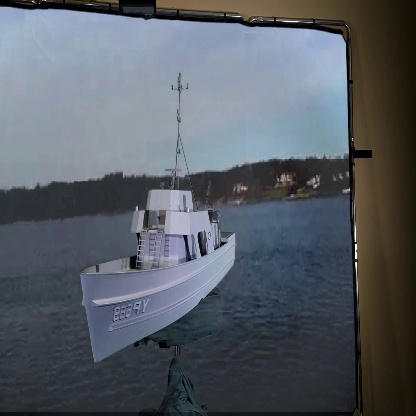YP689: (79, 70, 237, 365)
